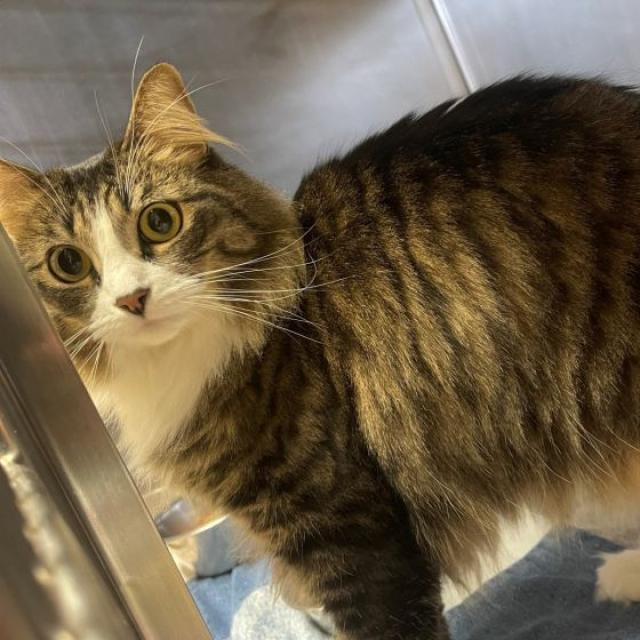domestic_long_hair_cat: (0, 53, 326, 457)
